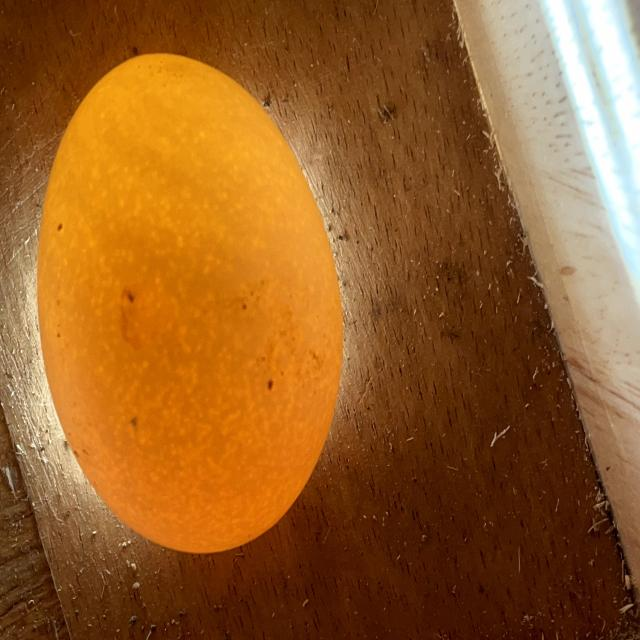infertile: (38, 53, 342, 553)
